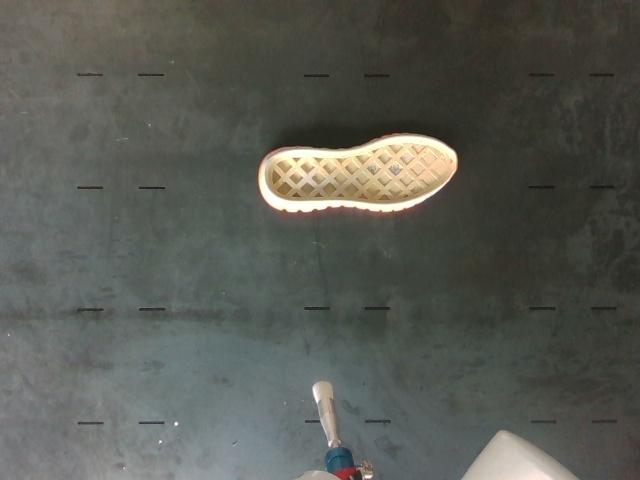shoes: (265, 137, 457, 204)
